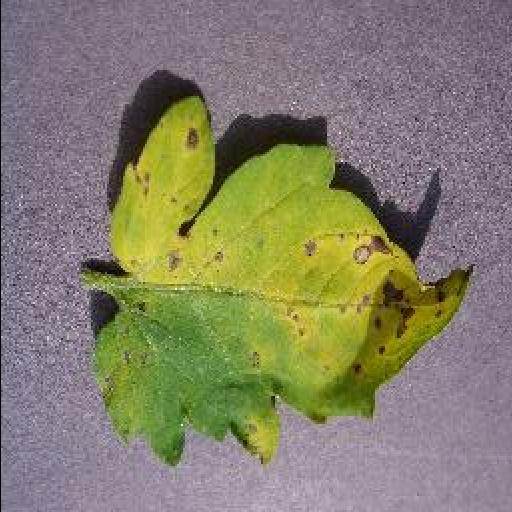disease_tomato: (90, 102, 478, 468)
